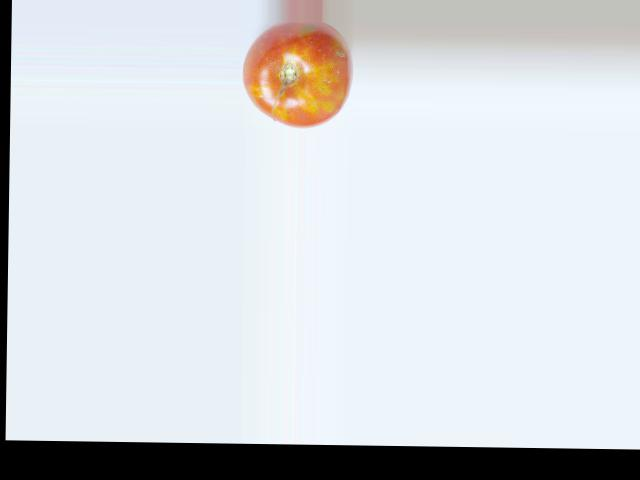tomato: (241, 20, 353, 128)
